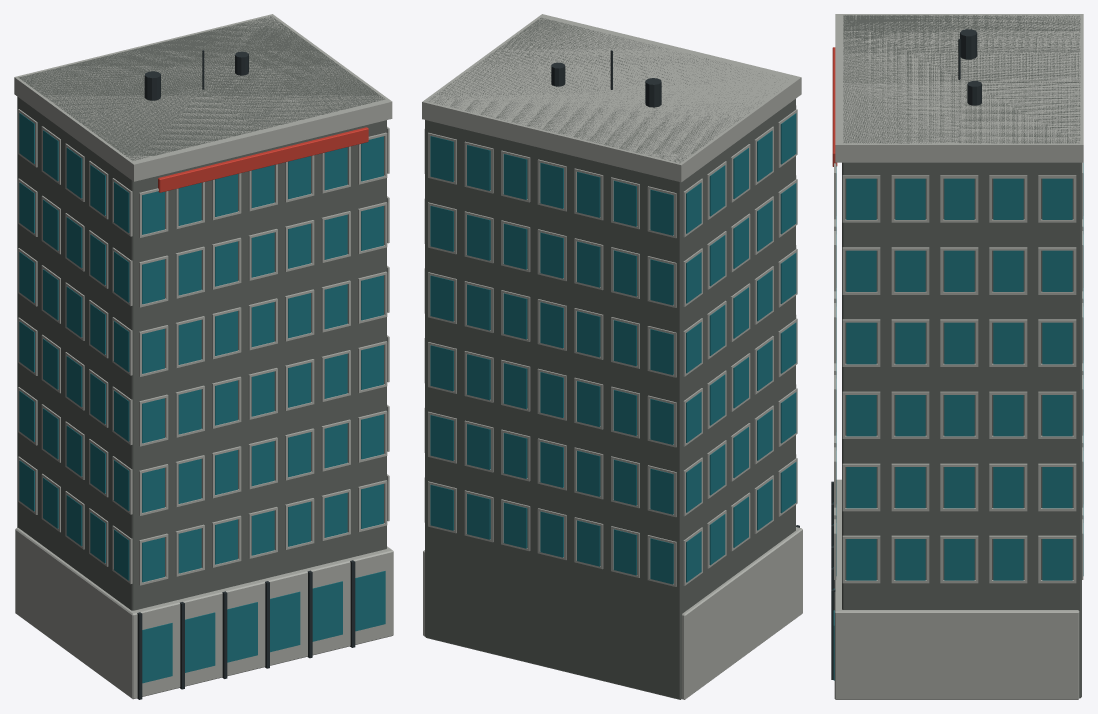
File: JHB_MidRise01_LOD0.fbx
3 views of the same model, side by side, from view 1: azimuth 30°, elevation 25°; view 2: azimuth 150°, elevation 25°; view 3: azimuth 270°, elevation 25° (orthographic). The views are drawn at different scales.
Visible parts, largest first — view 1: JHB_MidRise01_LOD0_FacadeAtlas, JHB_MidRise01_LOD0_Concrete, JHB_MidRise01_LOD0_TealGlass, JHB_MidRise01_LOD0_DarkMetal, JHB_MidRise01_LOD0_BlankSignBand; view 2: JHB_MidRise01_LOD0_FacadeAtlas, JHB_MidRise01_LOD0_Concrete, JHB_MidRise01_LOD0_TealGlass, JHB_MidRise01_LOD0_DarkMetal; view 3: JHB_MidRise01_LOD0_FacadeAtlas, JHB_MidRise01_LOD0_Concrete, JHB_MidRise01_LOD0_TealGlass, JHB_MidRise01_LOD0_DarkMetal, JHB_MidRise01_LOD0_BlankSignBand.
Boxes of the visible parts, x1,y1,x2,y2 form: JHB_MidRise01_LOD0_FacadeAtlas: [17, 16, 386, 610]; JHB_MidRise01_LOD0_Concrete: [14, 14, 393, 699]; JHB_MidRise01_LOD0_TealGlass: [19, 113, 385, 683]; JHB_MidRise01_LOD0_DarkMetal: [137, 50, 355, 699]; JHB_MidRise01_LOD0_BlankSignBand: [158, 127, 368, 192]; JHB_MidRise01_LOD0_FacadeAtlas: [425, 17, 795, 699]; JHB_MidRise01_LOD0_Concrete: [422, 14, 802, 699]; JHB_MidRise01_LOD0_TealGlass: [430, 113, 796, 584]; JHB_MidRise01_LOD0_DarkMetal: [551, 50, 799, 527]; JHB_MidRise01_LOD0_FacadeAtlas: [842, 15, 1081, 698]; JHB_MidRise01_LOD0_Concrete: [834, 14, 1083, 699]; JHB_MidRise01_LOD0_TealGlass: [833, 163, 1083, 680]; JHB_MidRise01_LOD0_DarkMetal: [831, 29, 981, 679]; JHB_MidRise01_LOD0_BlankSignBand: [832, 47, 837, 166].
Bounding box in the file's own units: 10.25 × 21.45 × 8.25.
Materials: 5 (1 with a texture image).
